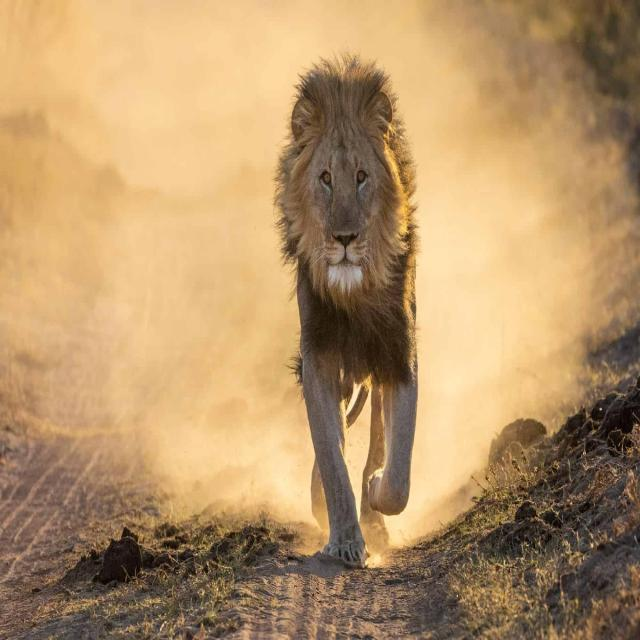lions: (178, 0, 639, 640)
